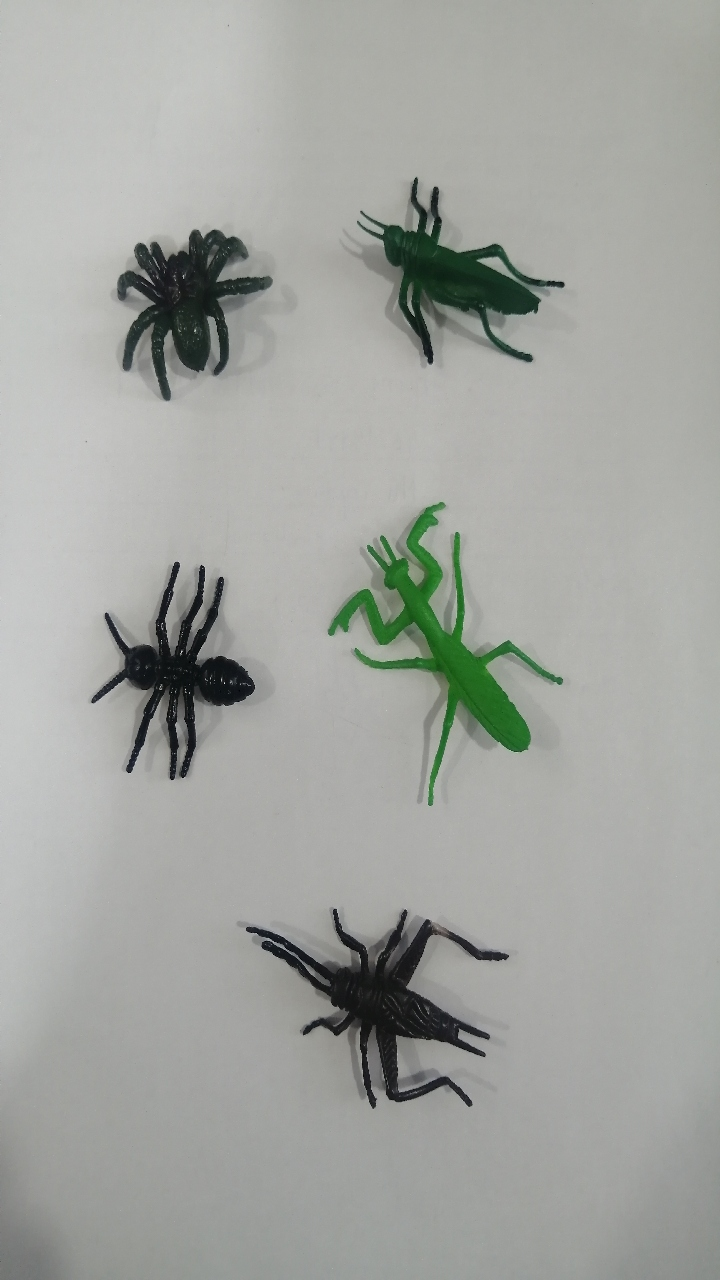intruso: (300, 465, 583, 832), (211, 865, 538, 1154), (44, 534, 281, 808), (341, 148, 575, 392), (78, 199, 268, 432)
